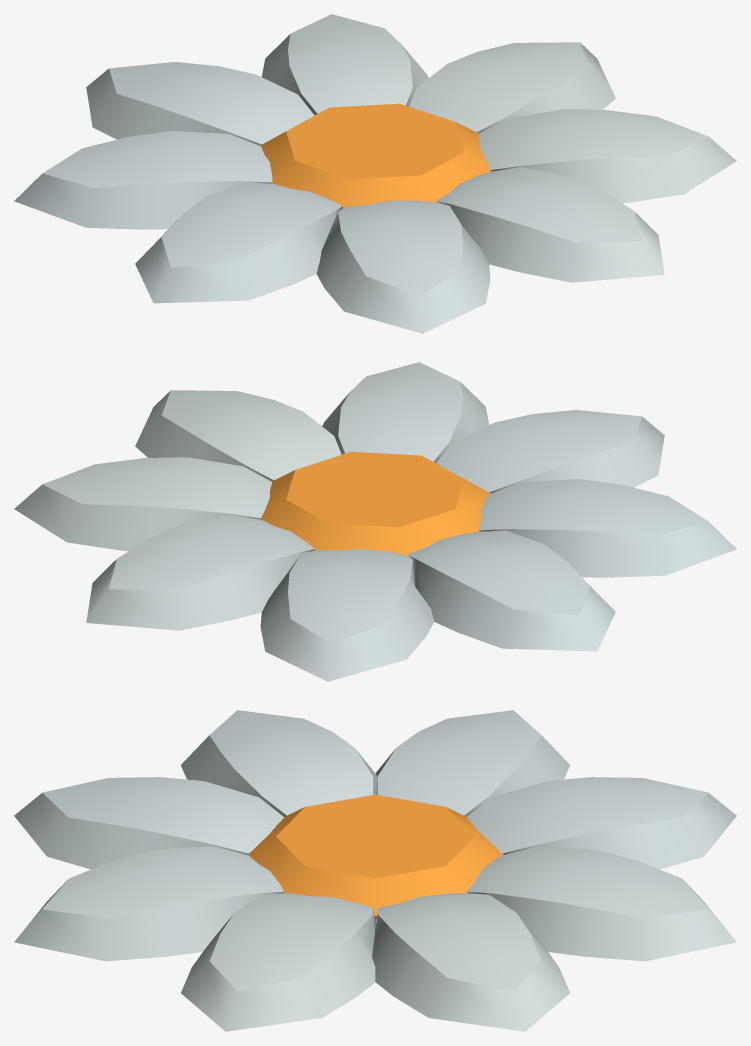
Rendered from Flower_1_C.fbx.
3 renders of one model, top to bottom at view 1: azimuth 30°, elevation 25°; view 2: azimuth 150°, elevation 25°; view 3: azimuth 270°, elevation 25°, orthographic. The views are drawn at different scales.
Parts seen in each view (by area): view 1: Flower_1_C; view 2: Flower_1_C; view 3: Flower_1_C.
Part boxes in pixels (x1,y1,x2,y2): Flower_1_C: (14,14,736,333); Flower_1_C: (14,362,736,681); Flower_1_C: (14,710,736,1031).
Bounding box in the file's own units: 33.7 × 2.43 × 33.7.
